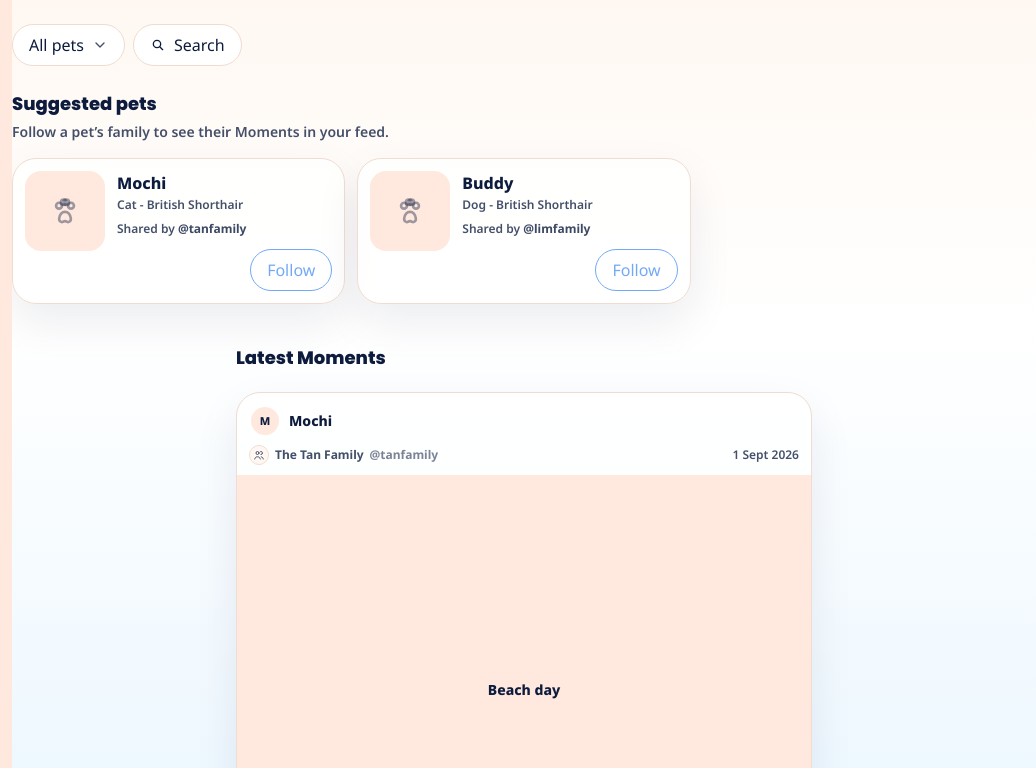
Test: SocialExploreView › narrows both sections when a species is chosen
Click the button with test id "species-filter-trigger": (68, 45) [12, 24, 125, 66]
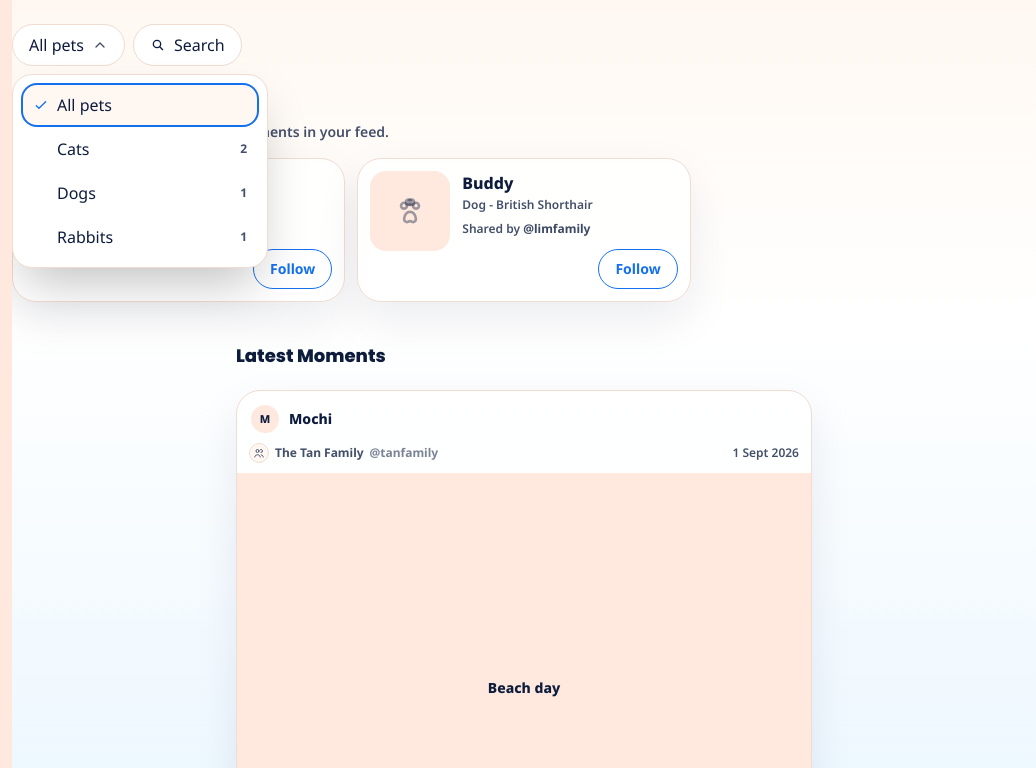
Click the option "Dogs 1": (140, 193) [21, 171, 259, 215]
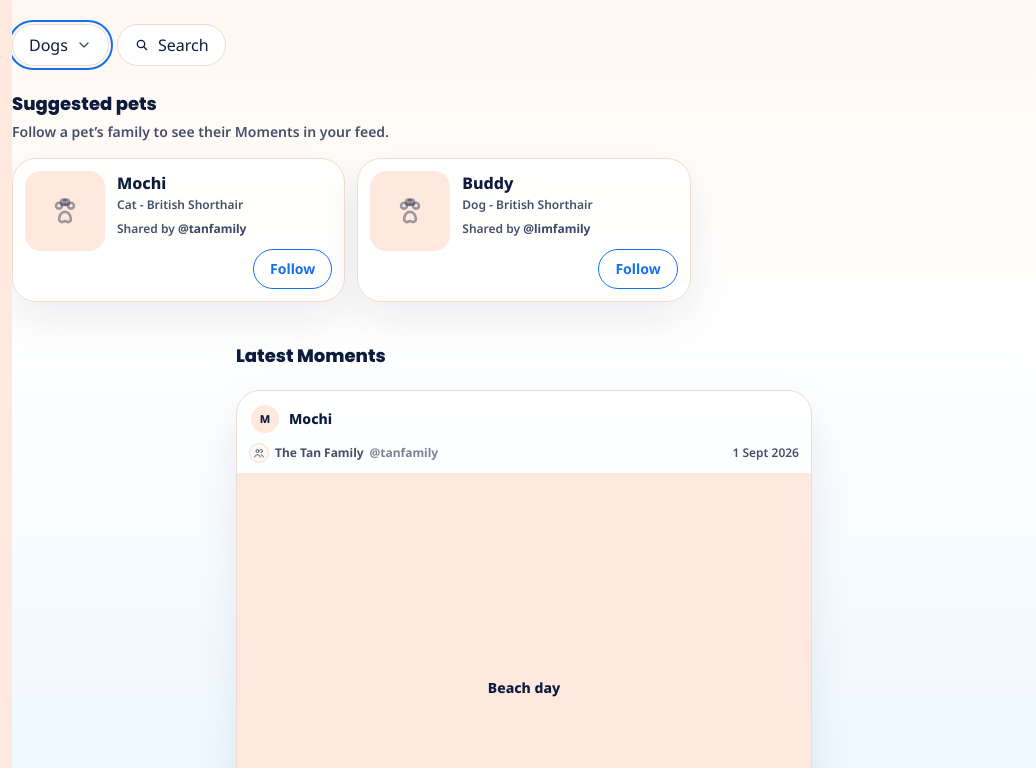
Now the list with test id "species-filter-panel" is gone
Now the button with test id "species-filter-trigger" reads "Dogs", box [12, 24, 109, 66]
